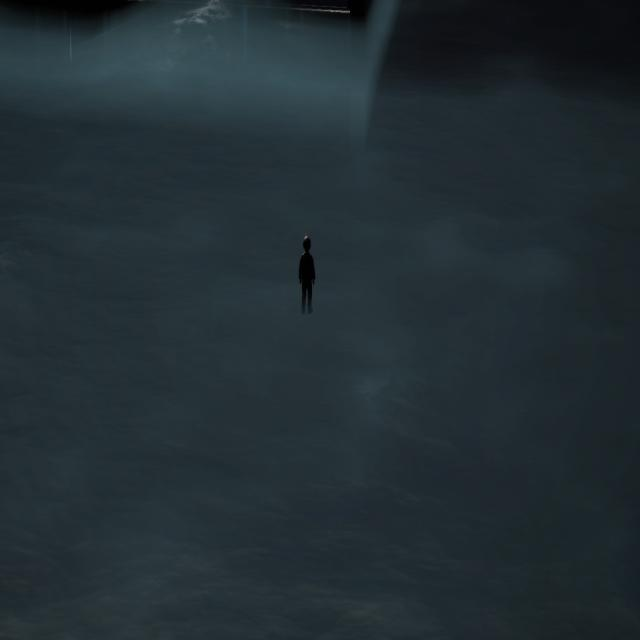Human: (296, 234, 319, 316)
